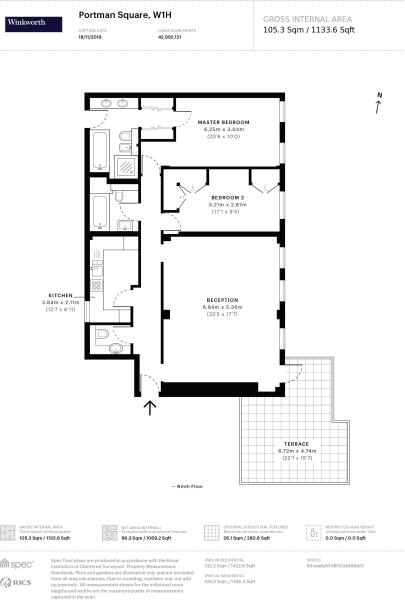GardenMeasurements: (277, 440, 322, 463)
GrossArea: (259, 10, 360, 43)
